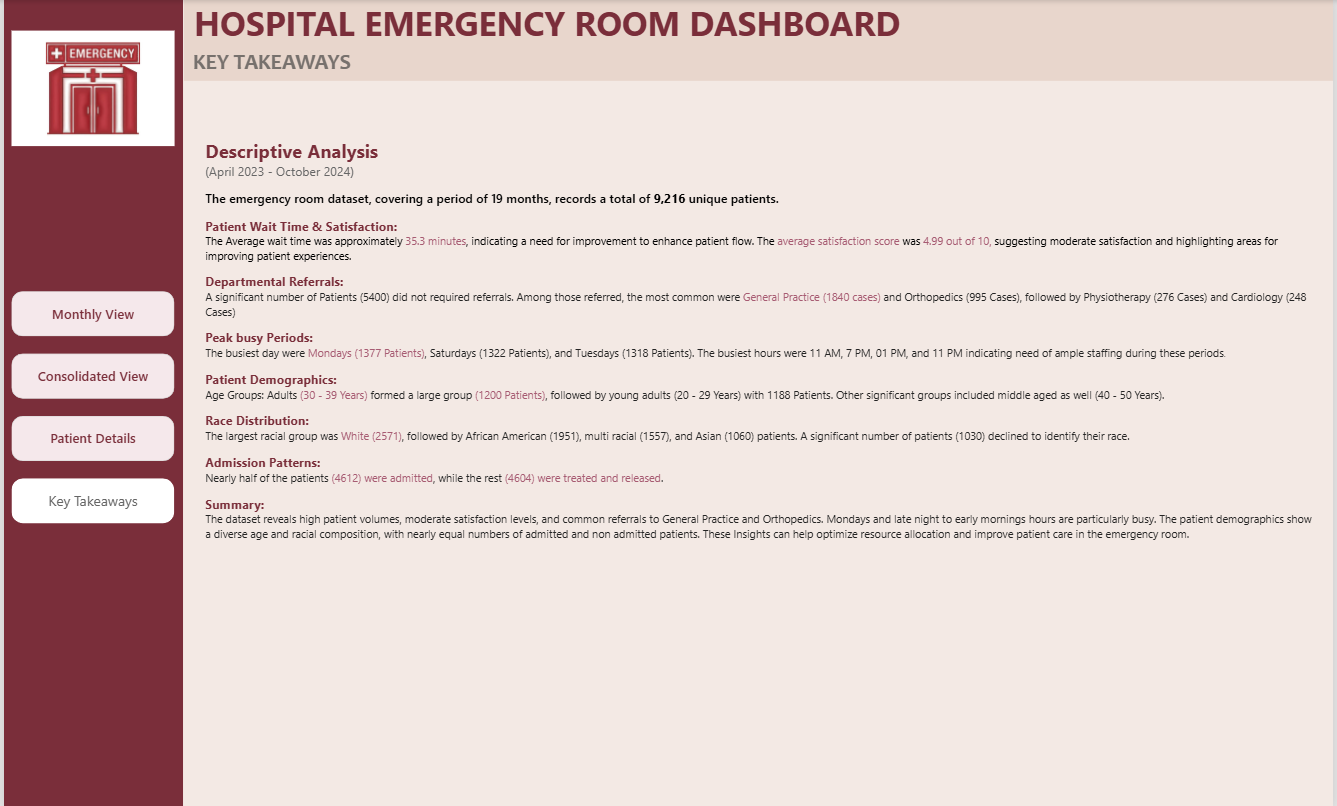

What the dashboard file says about the page in this screenshot:
{"tool":"powerbi","page":{"name":"Key Takeaways","canvas":[2300,1400],"ordinal":3},"visuals":[{"type":"shape","box":[0,0,310,1400.5],"z":0},{"type":"shape","box":[310.7,0,1989.8,140],"z":1000},{"type":"textbox","box":[283.6,0,1851.7,108.5],"z":2000},{"type":"textbox","box":[327.9,0,1260,106],"z":3000},{"type":"textbox","box":[327.5,85,422.5,55],"z":4000},{"type":"textbox","box":[310,422.5,522.5,82.5],"z":5000},{"type":"image","box":[12.5,12.5,282.5,280],"z":6000},{"type":"pageNavigator","box":[12.5,505,282.5,402.5],"z":7000},{"type":"textbox","box":[347.5,185,1917.5,1147.5],"z":8000}]}

Visuals, with their boxes in screenshot pixels (x1, y1, x2, y2), scaled from the page's 2300x1400 canvas onto the 1337x806 screenshot:
shape: select_region(0, 0, 180, 805)
shape: select_region(181, 0, 1336, 81)
textbox: select_region(165, 0, 1241, 62)
textbox: select_region(191, 0, 923, 61)
textbox: select_region(190, 49, 436, 81)
textbox: select_region(180, 243, 484, 291)
image: select_region(7, 7, 171, 168)
pageNavigator: select_region(7, 291, 171, 522)
textbox: select_region(202, 107, 1317, 767)
